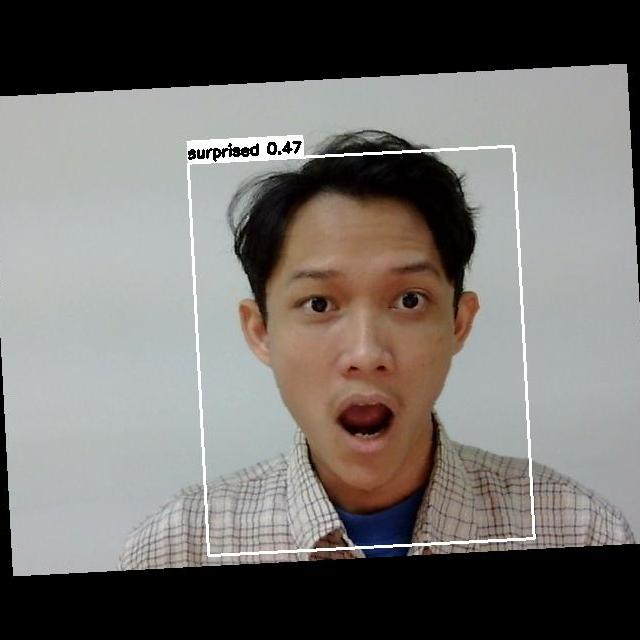Surprised: (265, 234, 464, 461)
